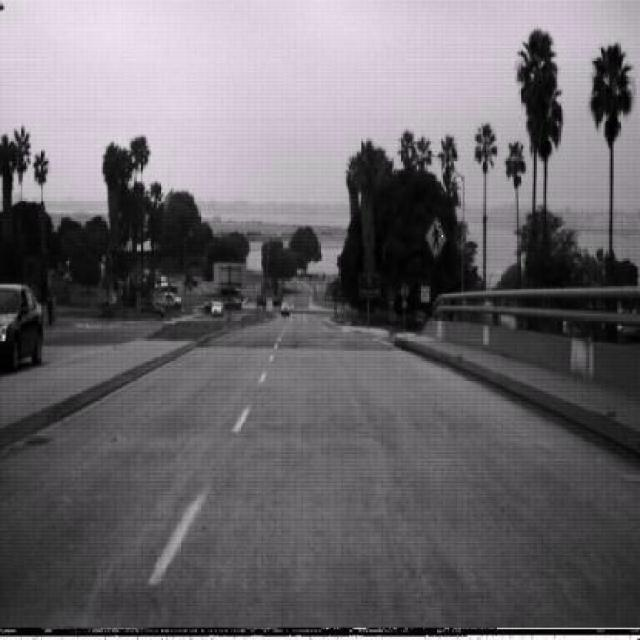pedestrianCrossing: (425, 215, 446, 258)
